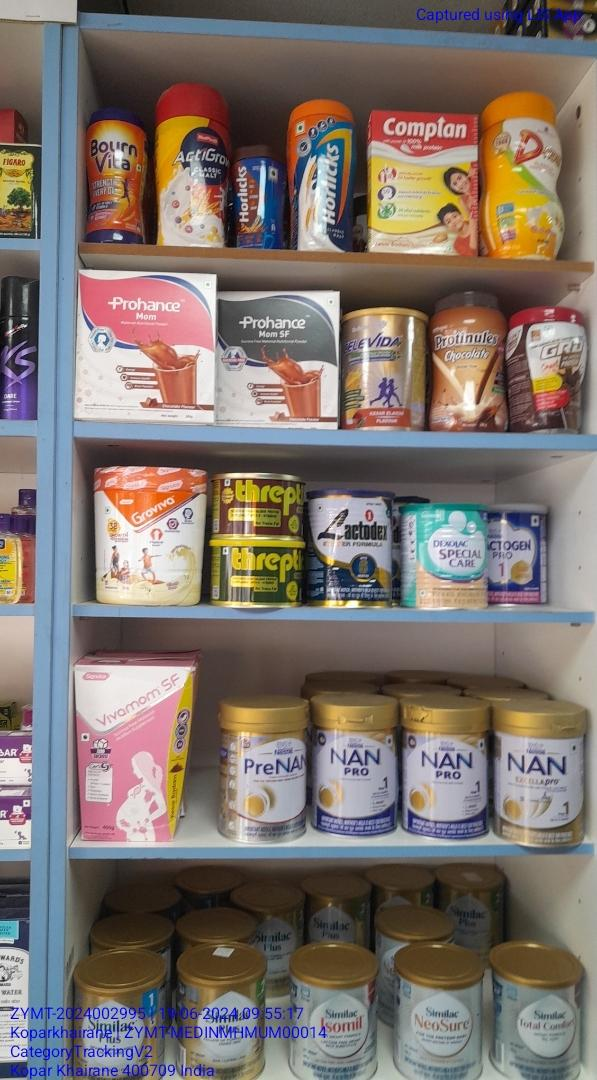BOURN_VITA_500_G_JAR: (85, 104, 148, 243)
COMPLAN_KESAR_BADAM_200_GMS_PACK: (371, 110, 480, 260)
HORLICK_CHOCOLATE_200_G_JAR: (232, 146, 280, 248)
HORLICK_CLASSIC_MALT_500_G_JAR: (287, 99, 356, 254)
